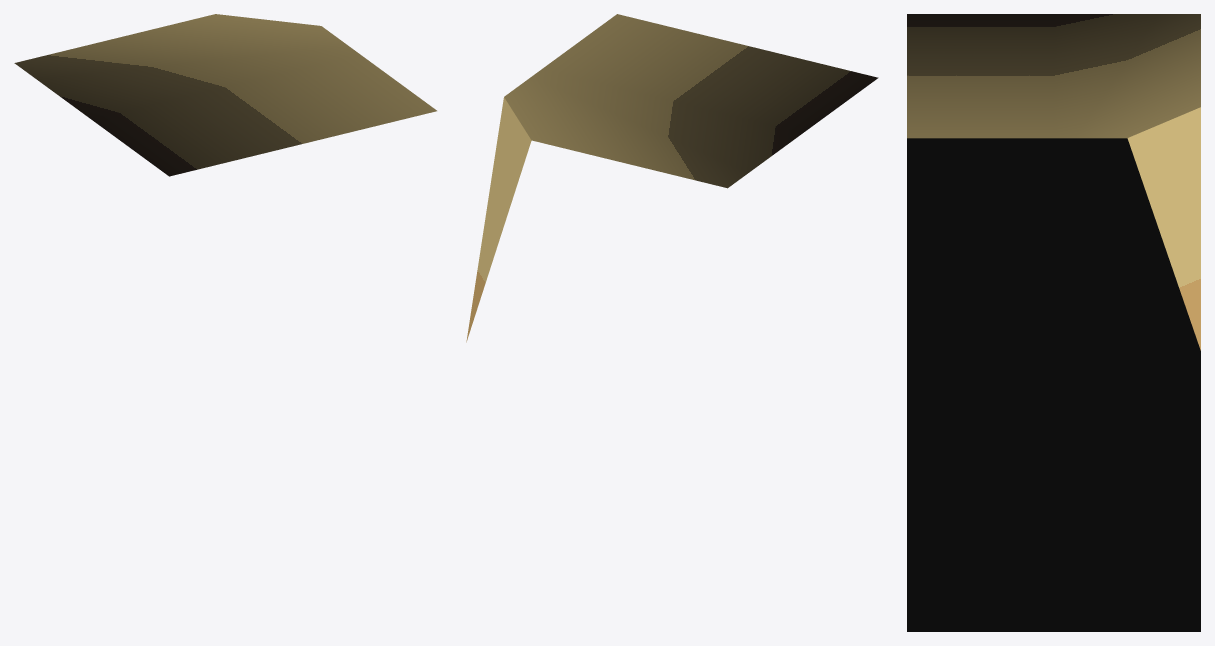
The picture shows the model from 3 angles, left to right: view 1: azimuth 30°, elevation 25°; view 2: azimuth 150°, elevation 25°; view 3: azimuth 270°, elevation 25°; orthographic projection. The views are drawn at different scales.
Bounding box in the file's own units: 1 × 1.85 × 1.
Materials: 2 (2 with a texture image).
